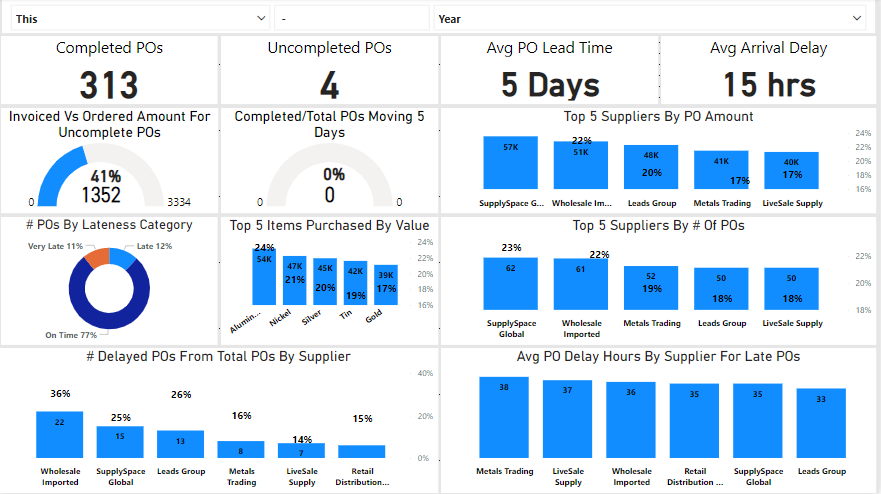

The dashboard page shown, as its layout file describes it:
{"tool":"powerbi","page":{"name":"Purchases","canvas":[1280,720],"ordinal":3},"visuals":[{"type":"card","title":"Completed POs","fields":{"Values":["Measures Table.Completed POs"]},"box":[2.9,55.3,315,98.9],"z":0},{"type":"gauge","title":"Invoiced Vs Ordered Amount For Uncomplete POs","fields":{"Y":["Sum(Purchase_Invoices_Fact.Invoiced_Amount)"],"MaxValue":["Sum(Purchase_Invoices_Fact.Ordered_Amount)"]},"box":[2.9,160,315.6,152.7],"z":1000},{"type":"card","title":"Uncompleted POs","fields":{"Values":["Measures Table.Uncompleted POs"]},"box":[322.9,55.3,315.6,98.9],"z":2000},{"type":"card","title":"Avg PO Lead Time","fields":{"Values":["Measures Table.Average PO Lead Time Days (Card)"]},"box":[642.9,55.3,315.6,98.9],"z":3000},{"type":"card","fields":{"Values":["Measures Table.Invoiced / Ordered Amount %"]},"box":[114.9,237.1,81.5,40.7],"z":4000},{"type":"card","title":"Avg Arrival Delay","fields":{"Values":["Measures Table.Average PO Arrival Delay Hours (card)"]},"box":[962.9,55.3,312.7,98.9],"z":5000},{"type":"lineStackedColumnComboChart","title":"Top 5 Suppliers By # Of POs","fields":{"Category":["Supplier_Dim.Name"],"Y":["Measures Table.Total POs"],"Y2":["Measures Table.Total POs %"]},"box":[642.9,318.5,632.7,186.2],"z":6000},{"type":"lineStackedColumnComboChart","title":"Top 5 Suppliers By PO Amount","fields":{"Category":["Supplier_Dim.Name"],"Y":["Measures Table.Purchase Order Amount"],"Y2":["Measures Table.Purchase Order Amount %"]},"box":[642.9,160,632.7,152.7],"z":7000},{"type":"donutChart","title":"# POs By Lateness Category","fields":{"Y":["Measures Table.Completed POs"],"Series":["Purchase_Invoices_Fact.Delay Days Category"]},"box":[3.2,318.4,315.2,185.6],"z":8000},{"type":"gauge","title":"Completed/Total POs Moving 5 Days","fields":{"MaxValue":["Measures Table.Total POs Moving 5 By PO Date"],"Y":["Measures Table.Completed POs Moving 5 By PO Date"]},"box":[322.9,160,315.6,152.7],"z":9000},{"type":"lineStackedColumnComboChart","title":"Avg PO Delay Hours By Supplier For Late POs","fields":{"Category":["Supplier_Dim.Name"],"Y":["Measures Table.Average PO Arrival Delay Hours"]},"box":[642.9,509.1,632.7,210.9],"z":10000},{"type":"lineStackedColumnComboChart","title":"# Delayed POs From Total POs By Supplier","fields":{"Category":["Supplier_Dim.Name"],"Y":["Measures Table.Delayed POs"],"Y2":["Measures Table.Delayed POs %"]},"box":[0,509.1,638.5,210.9],"z":11000},{"type":"lineStackedColumnComboChart","title":"Top 5 Items Purchased By Value","fields":{"Category":["Raw_Material_Dim.Name"],"Y":["Measures Table.Purchase Order Amount"],"Y2":["Measures Table.Purchase Order Amount %"]},"box":[322.9,318.5,315.6,186.2],"z":12000},{"type":"card","fields":{"Values":["Measures Table.Completed POs Moving 5 Days %"]},"box":[446.4,233.6,81.6,41.6],"z":13000},{"type":"slicer","title":"Date Filter","fields":{"Values":["Date_Dim.Date"]},"box":[4.4,0,1269.8,50.9],"z":14000}]}

Visuals, with their boxes in screenshot pixels (x1, y1, x2, y2), scaled from the page's 1280x720 canvas onto the 881x494 screenshot:
"Completed POs" card: [2, 38, 219, 106]
"Invoiced Vs Ordered Amount For Uncomplete POs" gauge: [2, 110, 219, 215]
"Uncompleted POs" card: [222, 38, 439, 106]
"Avg PO Lead Time" card: [442, 38, 660, 106]
card - Measures Table.Invoiced / Ordered Amount %: [79, 163, 135, 191]
"Avg Arrival Delay" card: [663, 38, 878, 106]
"Top 5 Suppliers By # Of POs" lineStackedColumnComboChart: [442, 219, 878, 346]
"Top 5 Suppliers By PO Amount" lineStackedColumnComboChart: [442, 110, 878, 215]
"# POs By Lateness Category" donutChart: [2, 218, 219, 346]
"Completed/Total POs Moving 5 Days" gauge: [222, 110, 439, 215]
"Avg PO Delay Hours By Supplier For Late POs" lineStackedColumnComboChart: [442, 349, 878, 493]
"# Delayed POs From Total POs By Supplier" lineStackedColumnComboChart: [0, 349, 439, 493]
"Top 5 Items Purchased By Value" lineStackedColumnComboChart: [222, 219, 439, 346]
card - Measures Table.Completed POs Moving 5 Days %: [307, 160, 363, 189]
"Date Filter" slicer: [3, 0, 877, 35]
